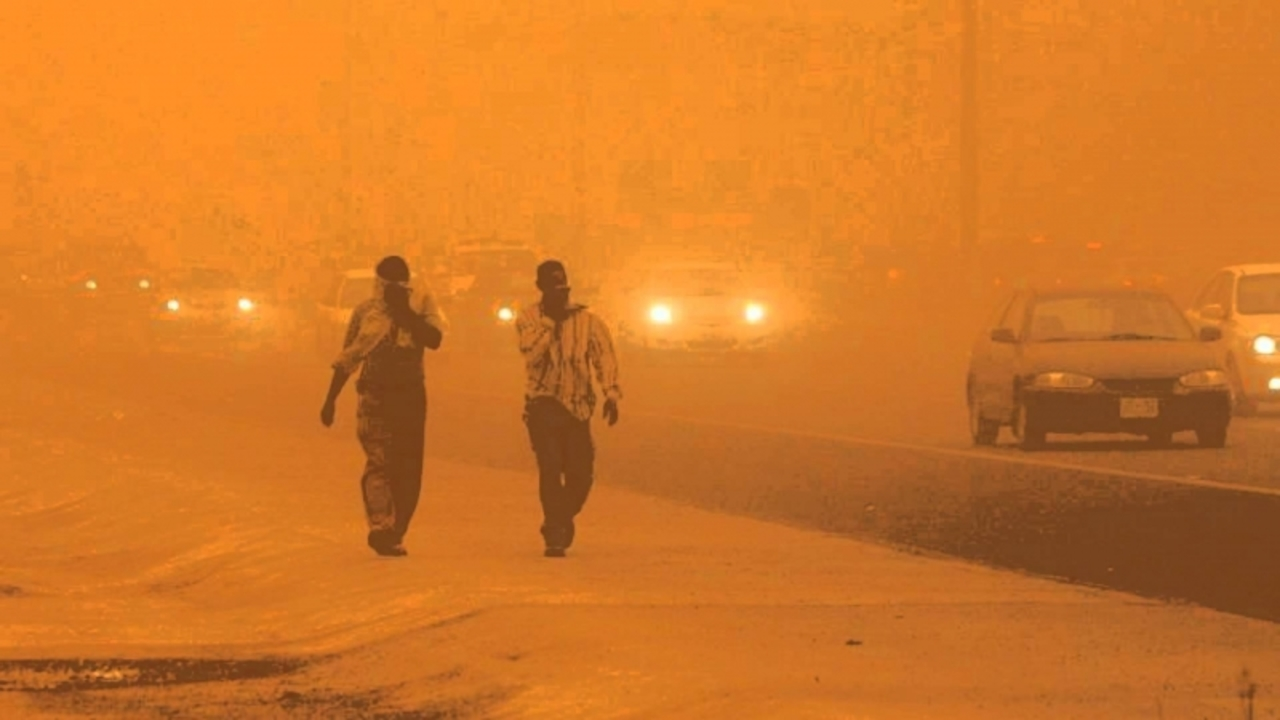car: (963, 285, 1234, 452), (615, 249, 777, 361), (1182, 261, 1279, 414), (316, 270, 444, 355), (448, 247, 553, 344), (150, 267, 265, 343), (57, 234, 155, 313)
person: (323, 257, 441, 552), (511, 259, 622, 561)
